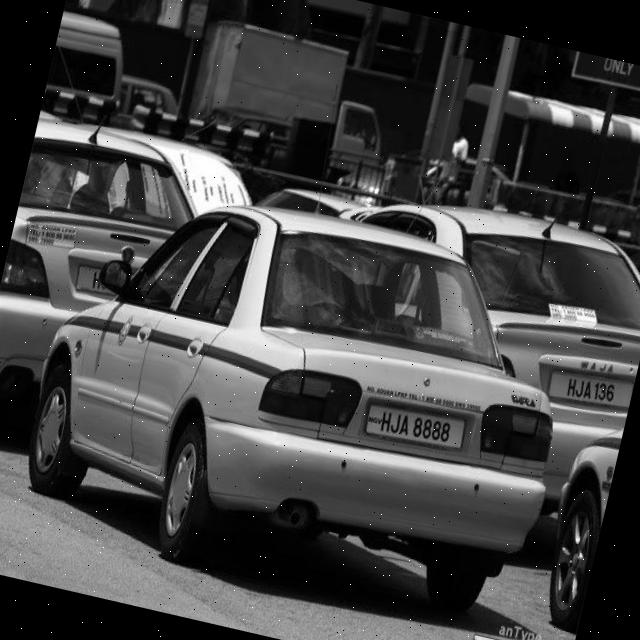License_Plate: (361, 393, 470, 462), (539, 356, 637, 425), (71, 261, 126, 300)
car: (1, 163, 601, 635)
